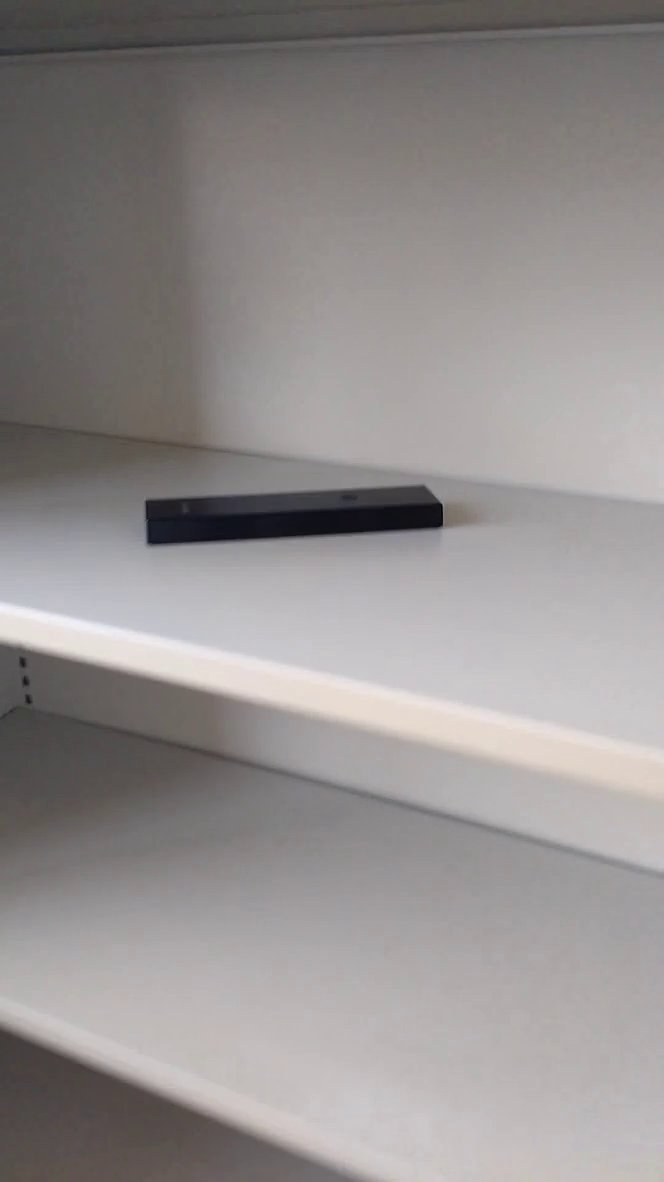remote: (134, 476, 458, 558)
